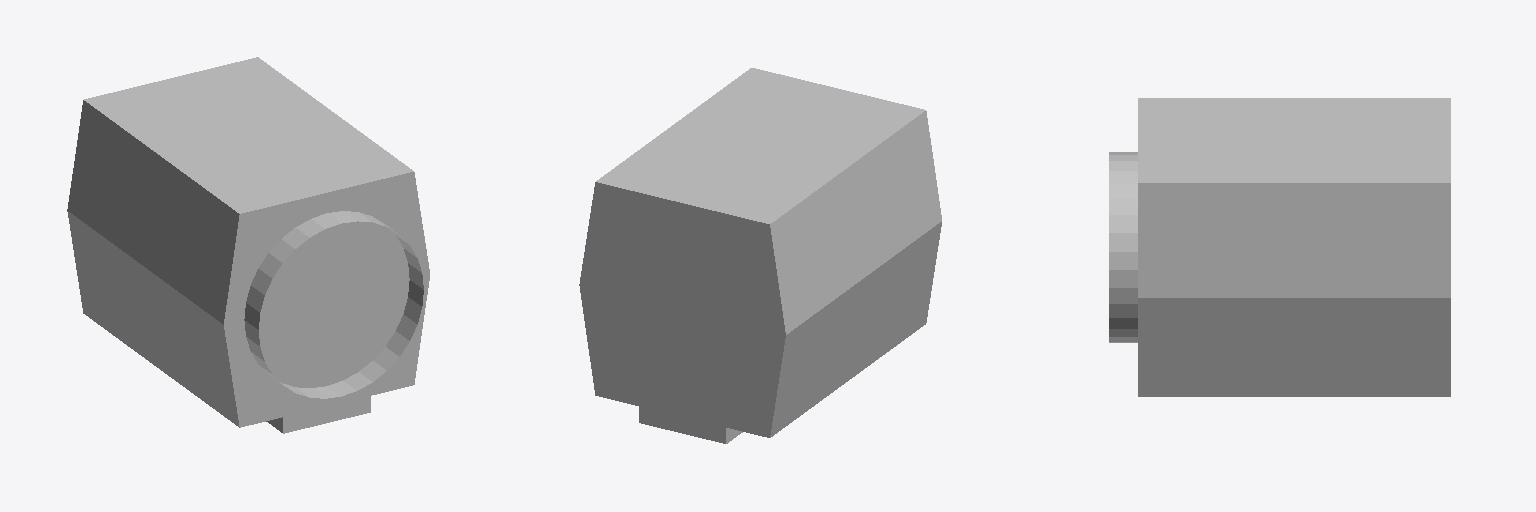
The model's file is iFresu.obj.
3 renders of one model, left to right at view 1: azimuth 30°, elevation 25°; view 2: azimuth 150°, elevation 25°; view 3: azimuth 270°, elevation 25°, orthographic.
Parts seen in each view (by area): view 1: Iso_Fresu_Cube; view 2: Iso_Fresu_Cube; view 3: Iso_Fresu_Cube.
Boxes of the visible parts, x1=… form: Iso_Fresu_Cube: x1=67, y1=57, x2=429, y2=433; Iso_Fresu_Cube: x1=579, y1=68, x2=941, y2=443; Iso_Fresu_Cube: x1=1109, y1=98, x2=1450, y2=396.
Bounding box in the file's own units: 3.55 × 3.78 × 5.07.